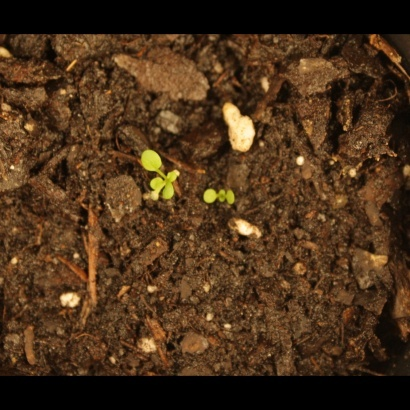leaf: (141, 149, 166, 174), (225, 189, 248, 212), (198, 187, 221, 210), (144, 175, 167, 198), (159, 183, 182, 206), (165, 162, 188, 185)
